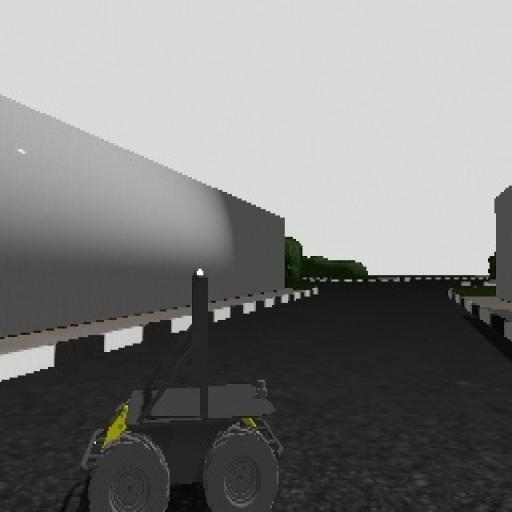huskya200: (60, 243, 326, 512)
